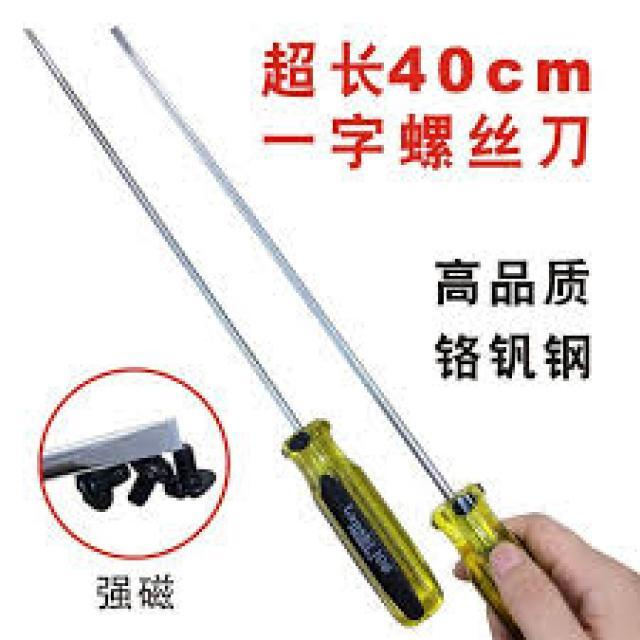screwdriver: (106, 20, 562, 640), (19, 21, 447, 633)
